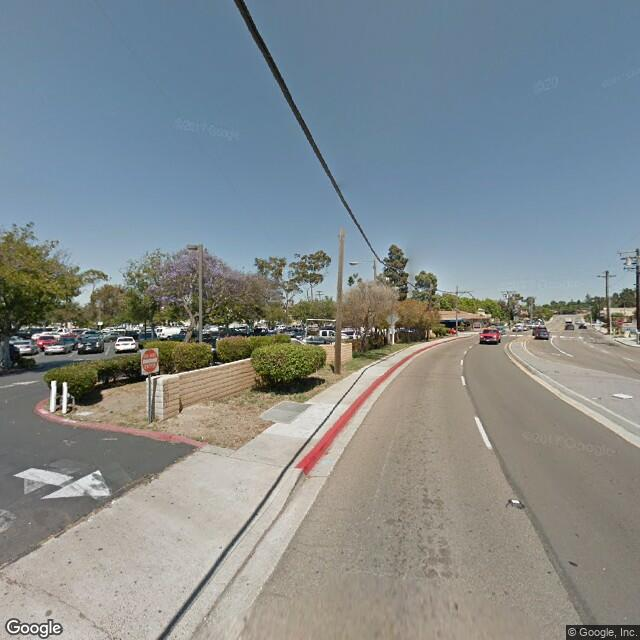litter: (257, 391, 273, 403)
